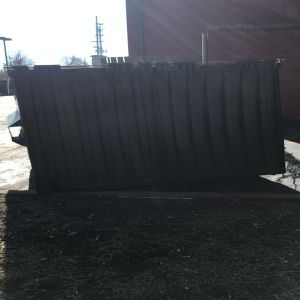Dumpster: (5, 56, 291, 196)
